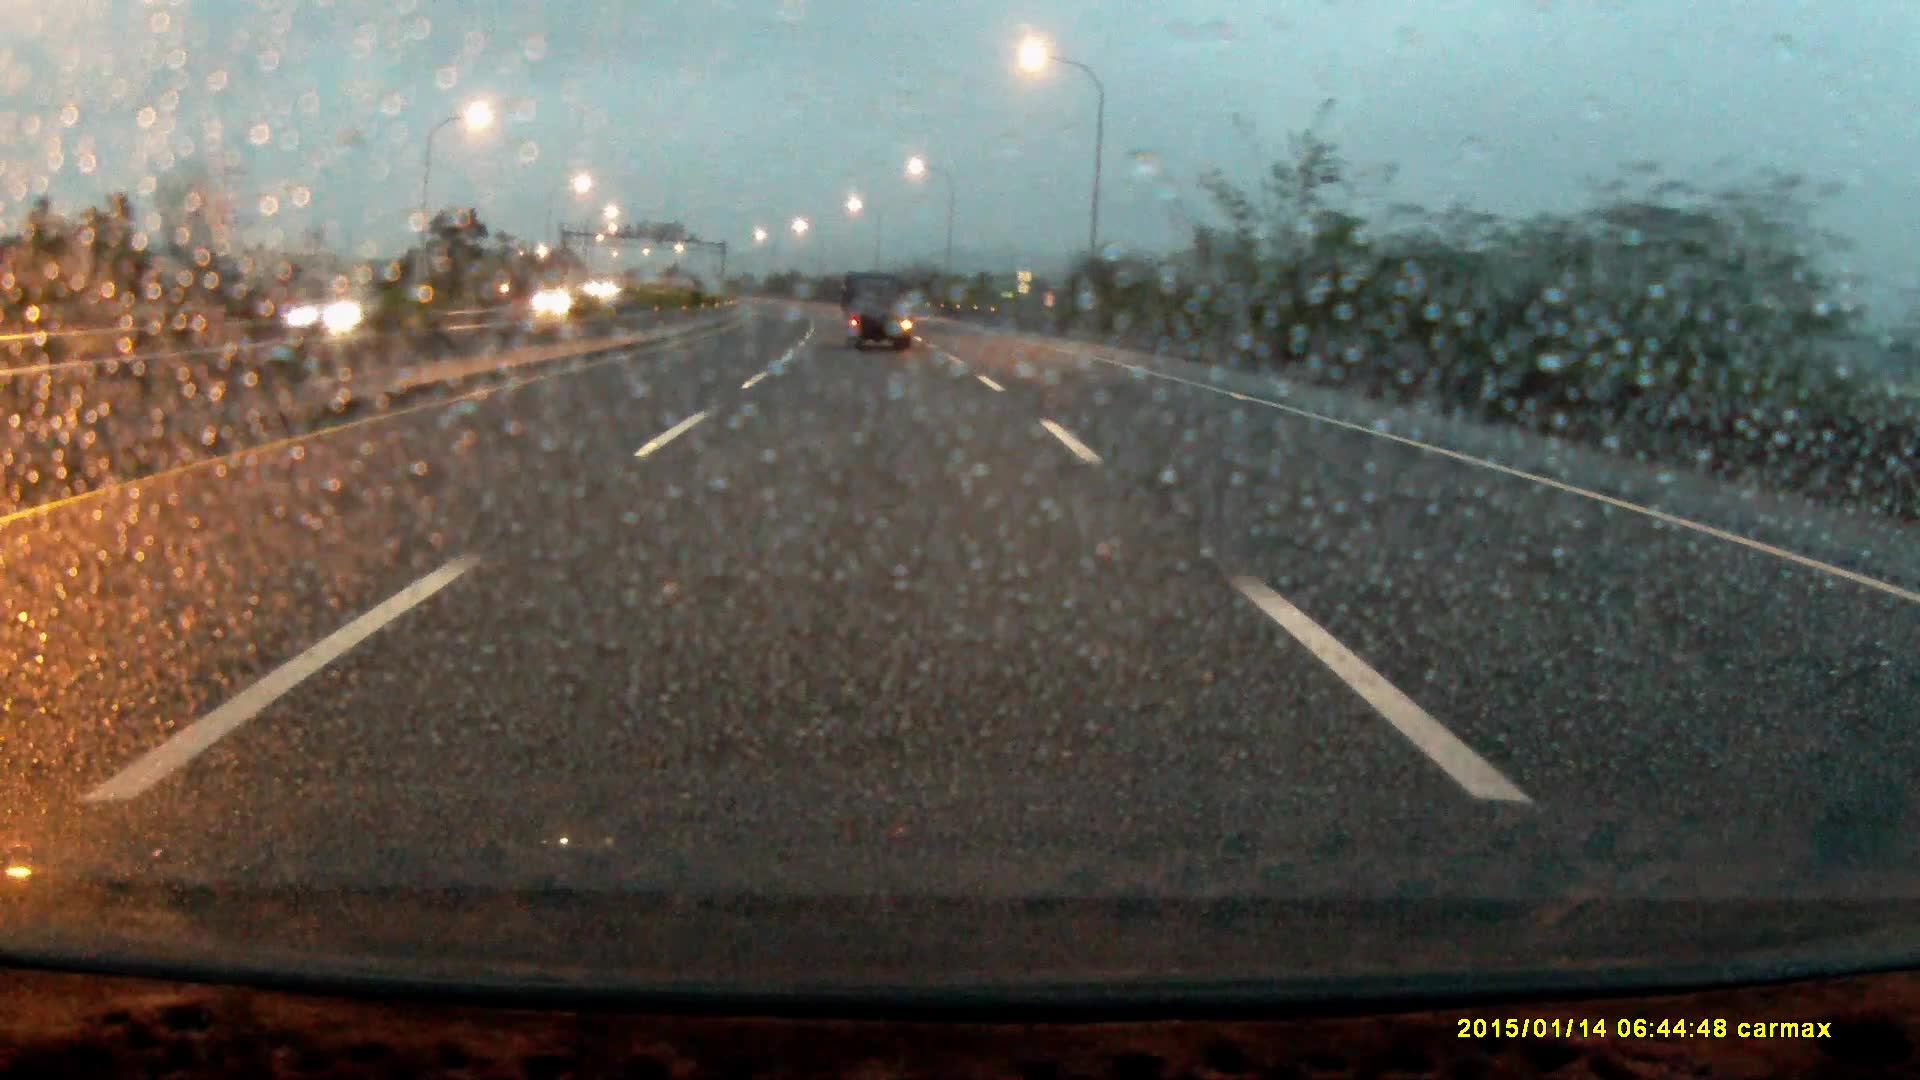vehicle: (274, 289, 402, 342), (841, 274, 915, 352)
